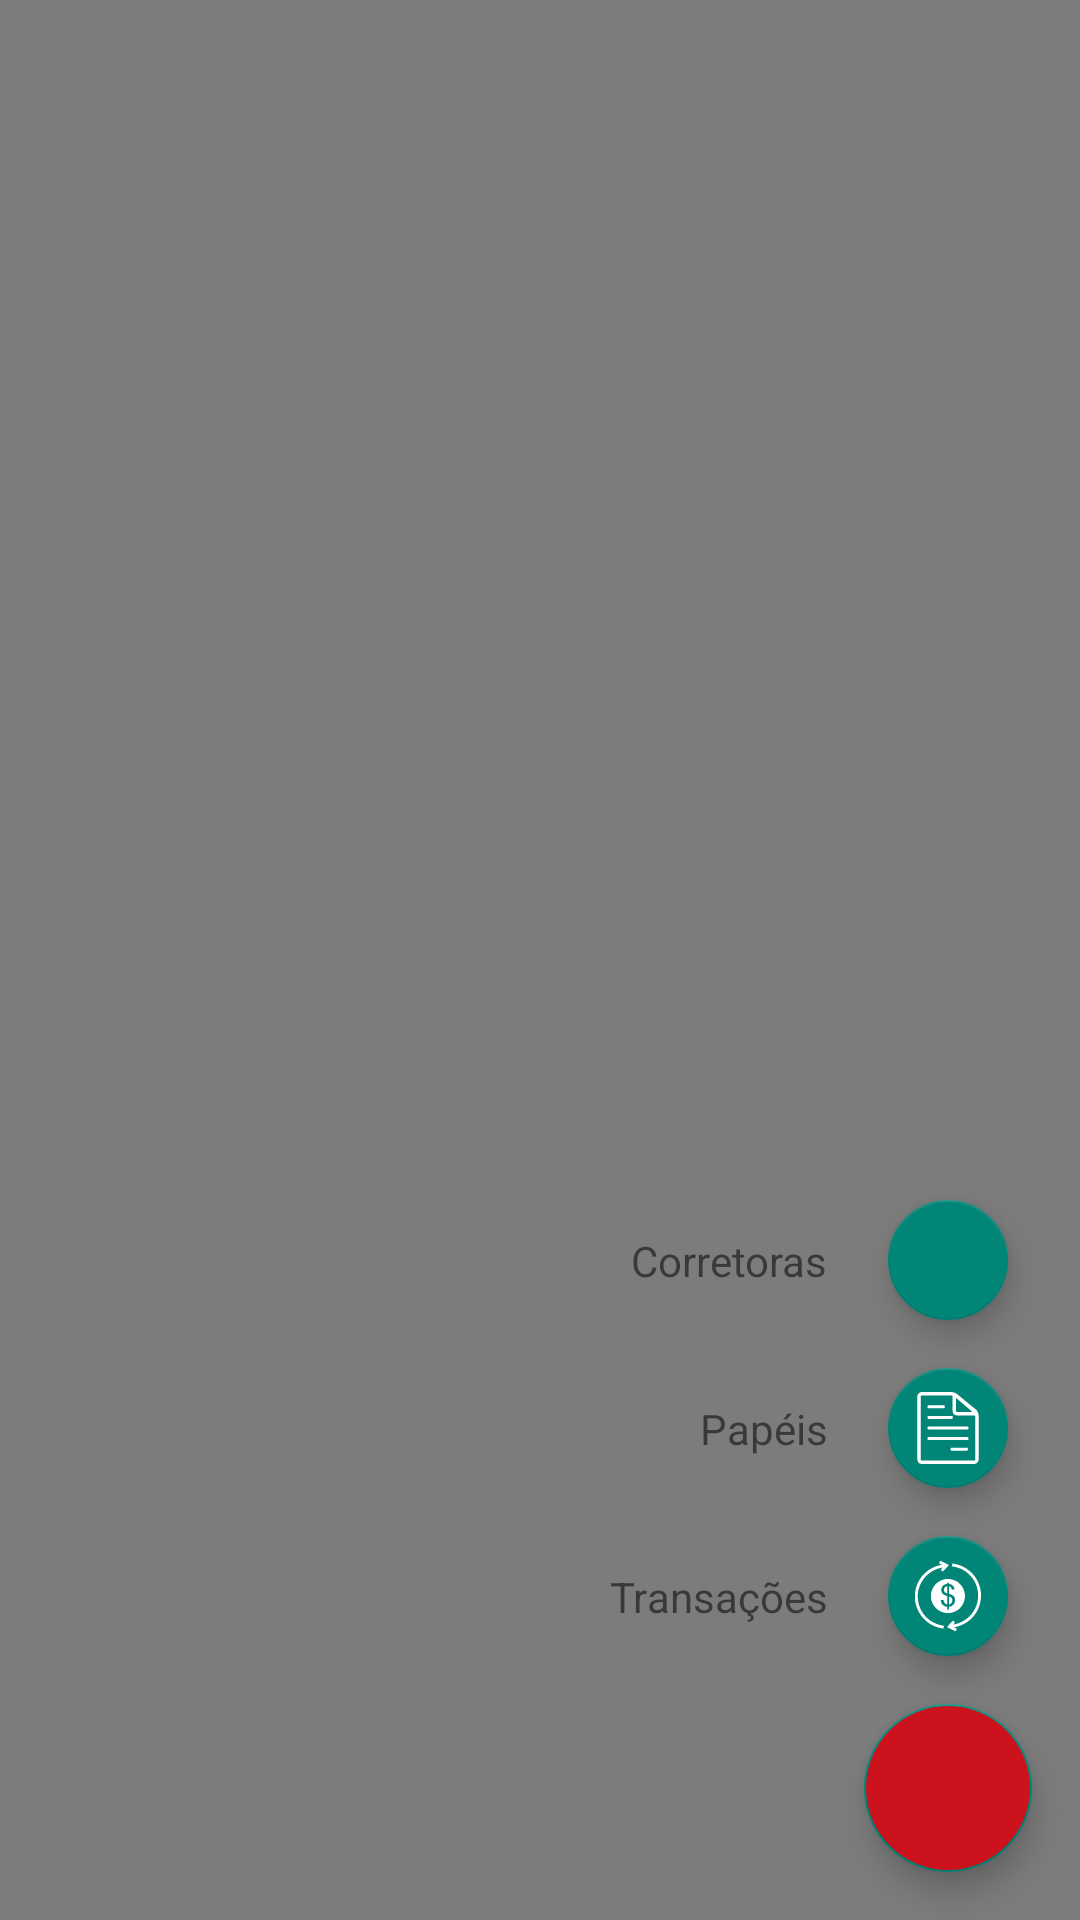

Where icons sit on this 1080*1920 app screen, as (x1, y1, x2, y2):
paper: (888, 1368, 1008, 1488)
transaction: (888, 1536, 1008, 1656)
